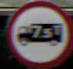Heavy Vehicles: (9, 0, 67, 58)
